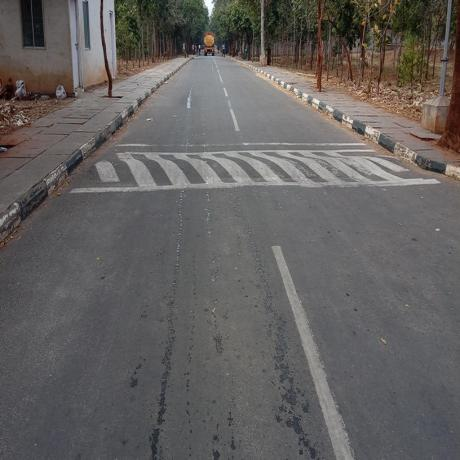Speed Bump: (72, 141, 442, 190)
